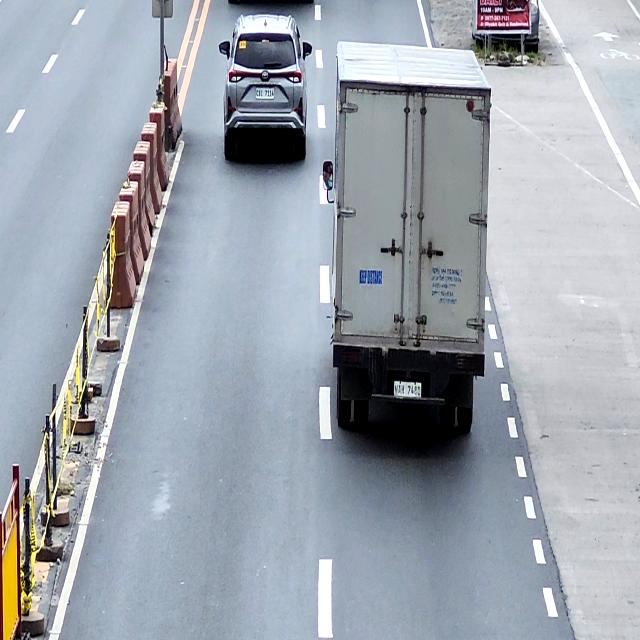Car: (218, 13, 313, 163)
License-Plate: (394, 382, 422, 398), (256, 88, 274, 100)
Truck: (322, 39, 492, 436)
